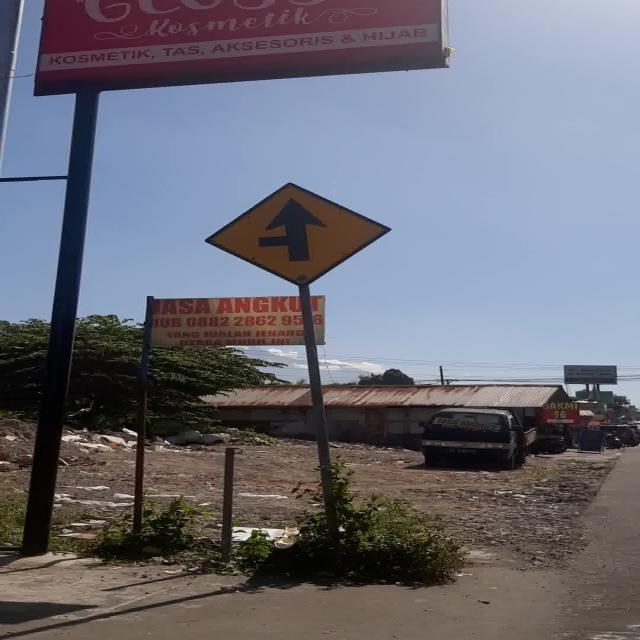Persimpangan 3 Prioritas Kiri: (204, 182, 392, 286)
